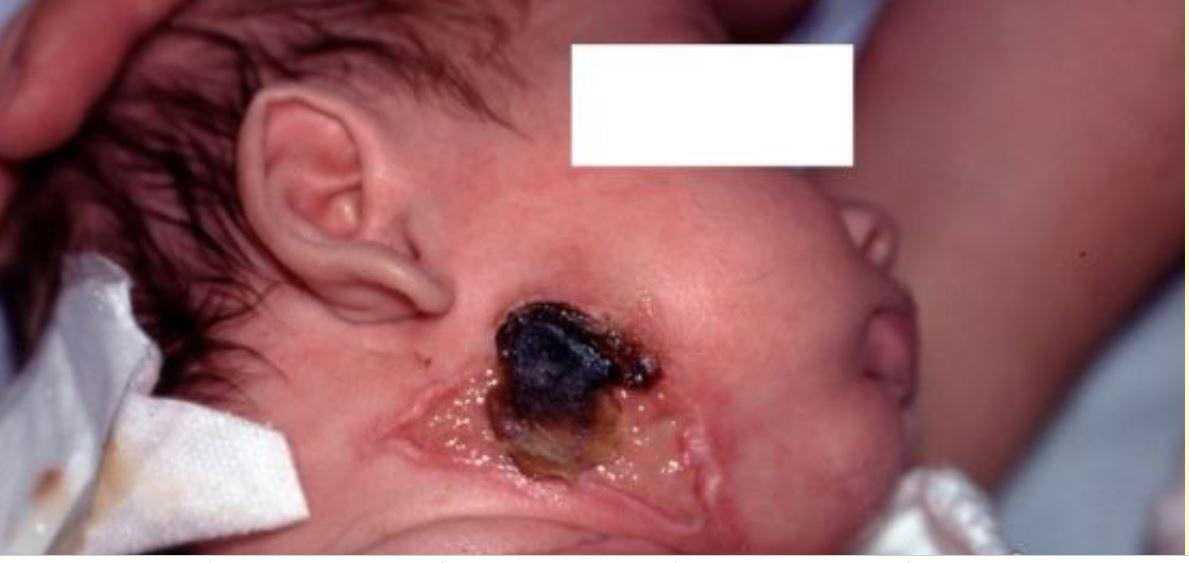Stage4: (395, 251, 810, 543)
